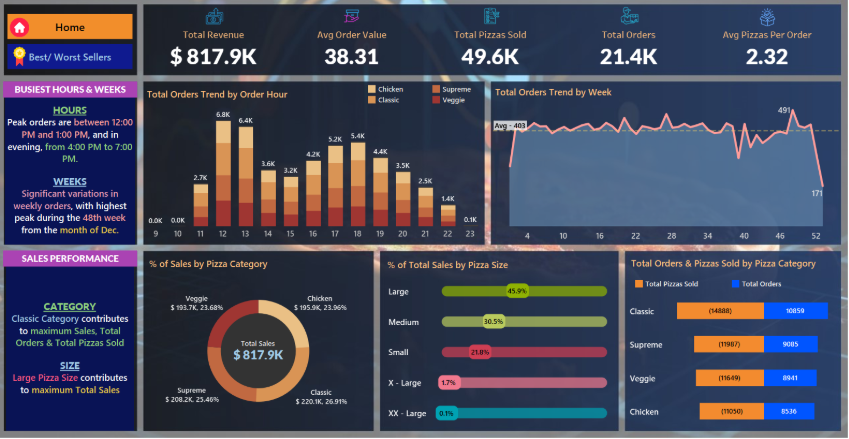

The page's visual inventory and layout, read from the dashboard file:
{"tool":"tableau","page":{"name":"Dashboard 1","canvas":[1600,900],"ordinal":1},"visuals":[{"type":"image","param":"C:/Users/hp/Downloads/Pizza Tableau 1.jpg","box":[8,8,1584,884]},{"type":"filter","title":"Sheet 2","param":"[federated.0io4gk30kpgish1eahrht1i6fmum].[none:order_date:qk]","box":[1292,19,273,65]},{"type":"filter","title":"Sheet 2","param":"[federated.0io4gk30kpgish1eahrht1i6fmum].[none:pizza_category:nk]","box":[1105,23,184,59]},{"type":"text","box":[581,28,409,51]},{"type":"image","param":"C:/Users/hp/Downloads/Pizza Sales Images-20250715T074519Z-1-001/Pizza Sales Imag","box":[535,37,37,37]},{"type":"image","param":"C:/Users/hp/Downloads/Pizza Sales Images-20250715T074519Z-1-001/Pizza Sales Imag","box":[1160,93,46,49]},{"type":"image","param":"C:/Users/hp/Downloads/Pizza Sales Images-20250715T074519Z-1-001/Pizza Sales Imag","box":[1415,93,52,54]},{"type":"image","param":"C:/Users/hp/Downloads/Pizza Sales Images-20250715T074519Z-1-001/Pizza Sales Imag","box":[903,97,48,45]},{"type":"dashboard-object","box":[35,98,240,56]},{"type":"image","param":"C:/Users/hp/Downloads/Pizza Sales Images-20250715T074519Z-1-001/Pizza Sales Imag","box":[644,100,49,43]},{"type":"image","param":"C:/Users/hp/Downloads/Pizza Sales Images-20250715T074519Z-1-001/Pizza Sales Imag","box":[380,101,55,44]},{"type":"worksheet","title":"Sheet 1","mark":"Automatic","box":[289,147,1275,77]},{"type":"dashboard-object","box":[33,157,244,66]},{"type":"worksheet","title":"Sheet 2","mark":"Bar","rows":["Calculation_1722908363927822339","Calculation_1722908363927822339"],"cols":["order_time"],"box":[288,235,625,298]},{"type":"text","box":[33,236,243,67]},{"type":"worksheet","title":"Sheet 3","mark":"Area","rows":["Calculation_1722908363927445505","Calculation_1722908363927445505"],"cols":["order_date"],"box":[925,236,639,298]},{"type":"legend","title":"Sheet 2","param":"[federated.0io4gk30kpgish1eahrht1i6fmum].[none:pizza_category:nk]","box":[627,237,285,79]},{"type":"worksheet","title":"Sheet 5","mark":"Line","rows":["pizza_size"],"box":[723,545,435,330]},{"type":"worksheet","title":"Sheet 4","mark":"Pie","rows":["Calculation_1261570877356892162","Calculation_1261570877356924932"],"box":[289,546,420,331]},{"type":"worksheet","title":"Sheet 6","mark":"Automatic","rows":["pizza_category"],"box":[1170,547,395,291]},{"type":"legend","title":"Sheet 6","param":"[federated.0io4gk30kpgish1eahrht1i6fmum].[:Measure Names]","box":[1171,838,395,36]}]}

Visuals, with their boxes on the page's 1600x900 design canvas (x1, y1, x2, y2). These are canvas units, not pixel positions in the 849x439 screenshot, which may show the page scaled, cropped or inside an application window:
image: 8/8/1592/892
"Sheet 2" filter: 1292/19/1565/84
"Sheet 2" filter: 1105/23/1289/82
text: 581/28/990/79
image: 535/37/572/74
image: 1160/93/1206/142
image: 1415/93/1467/147
image: 903/97/951/142
dashboard-object: 35/98/275/154
image: 644/100/693/143
image: 380/101/435/145
"Sheet 1" worksheet: 289/147/1564/224
dashboard-object: 33/157/277/223
"Sheet 2" worksheet (Bar marks): 288/235/913/533
text: 33/236/276/303
"Sheet 3" worksheet (Area marks): 925/236/1564/534
"Sheet 2" legend: 627/237/912/316
"Sheet 5" worksheet (Line marks): 723/545/1158/875
"Sheet 4" worksheet (Pie marks): 289/546/709/877
"Sheet 6" worksheet: 1170/547/1565/838
"Sheet 6" legend: 1171/838/1566/874
